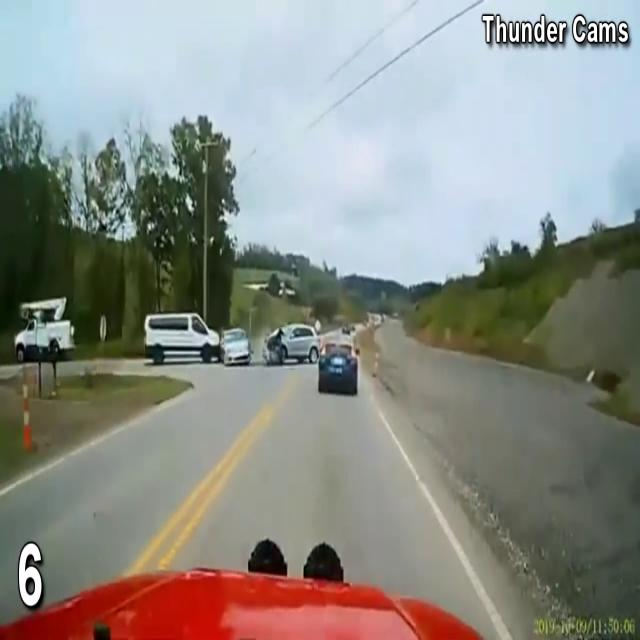accident: (154, 311, 312, 373)
